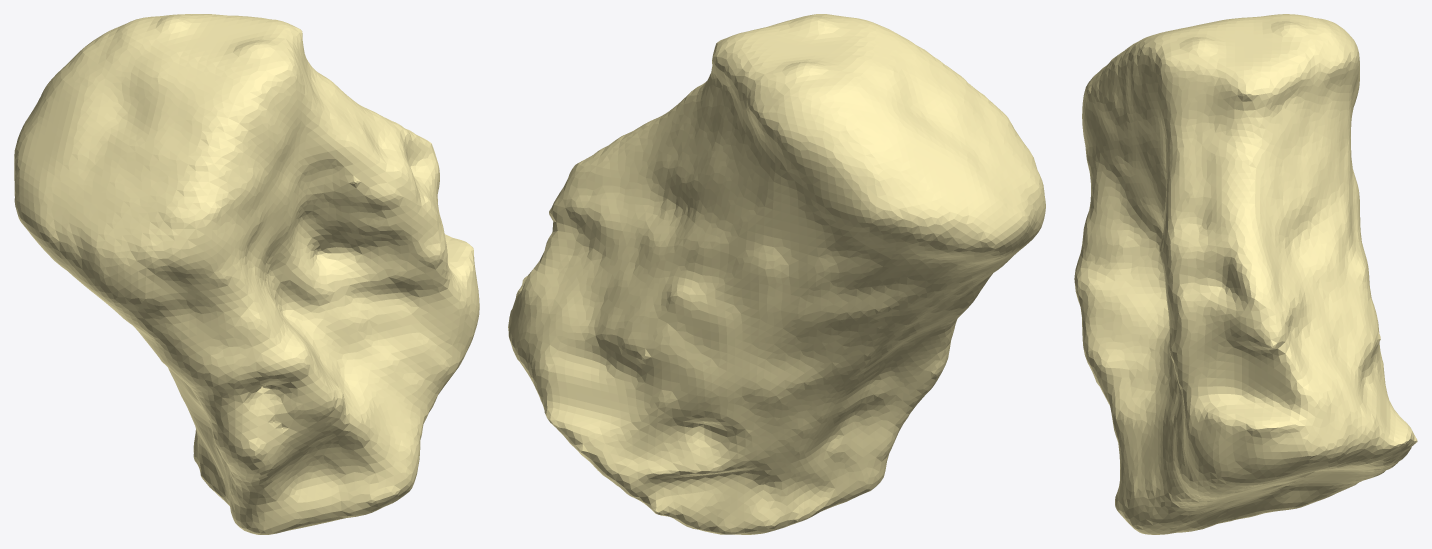
Rendered from Dcent1.glb.
3 renders of one model, left to right at view 1: azimuth 30°, elevation 25°; view 2: azimuth 150°, elevation 25°; view 3: azimuth 270°, elevation 25°, orthographic. The views are drawn at different scales.
Visible parts, largest first — view 1: Dcent1; view 2: Dcent1; view 3: Dcent1.
Part boxes in pixels (x1,y1,x2,y2): Dcent1: (14,14,479,534); Dcent1: (508,14,1045,534); Dcent1: (1074,14,1417,534).
Bounding box in the file's own units: 0.00451 × 0.00447 × 0.00308.
